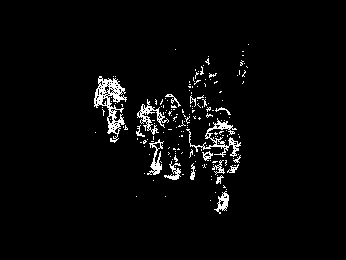person: (199, 105, 243, 214), (155, 92, 197, 182), (134, 97, 166, 176), (102, 75, 126, 142)
